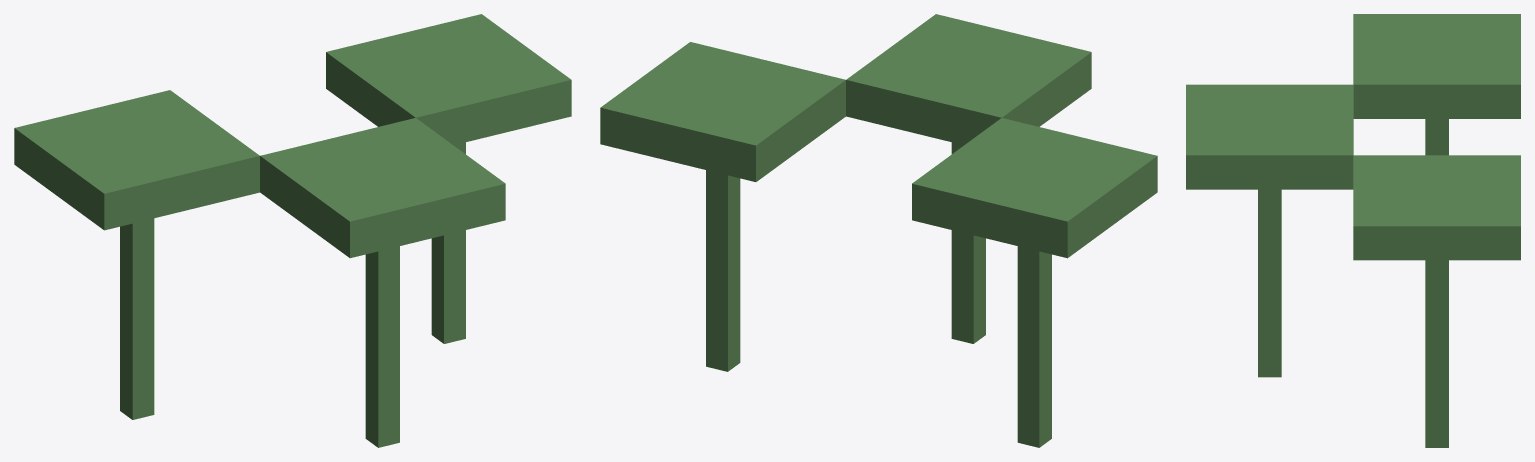
The model's file is date-palm-grove.source.glb.
The picture shows the model from 3 angles, left to right: view 1: azimuth 30°, elevation 25°; view 2: azimuth 150°, elevation 25°; view 3: azimuth 270°, elevation 25°; orthographic projection. The views are drawn at different scales.
Parts seen in each view (by area): view 1: date-palm-grove-crown--2-mesh, date-palm-grove-crown-0-mesh, date-palm-grove-crown-2-mesh, date-palm-grove-trunk--2-mesh, date-palm-grove-trunk-0-mesh, date-palm-grove-trunk-2-mesh; view 2: date-palm-grove-crown-2-mesh, date-palm-grove-crown--2-mesh, date-palm-grove-crown-0-mesh, date-palm-grove-trunk--2-mesh, date-palm-grove-trunk-2-mesh, date-palm-grove-trunk-0-mesh; view 3: date-palm-grove-crown-0-mesh, date-palm-grove-crown-2-mesh, date-palm-grove-crown--2-mesh, date-palm-grove-trunk-0-mesh, date-palm-grove-trunk-2-mesh, date-palm-grove-trunk--2-mesh.
Boxes of the visible parts, left/top/right/bottom form: date-palm-grove-crown--2-mesh: left=14, top=90, right=259, bottom=230; date-palm-grove-crown-0-mesh: left=260, top=118, right=505, bottom=258; date-palm-grove-crown-2-mesh: left=326, top=14, right=571, bottom=145; date-palm-grove-trunk--2-mesh: left=120, top=218, right=154, bottom=419; date-palm-grove-trunk-0-mesh: left=365, top=246, right=399, bottom=447; date-palm-grove-trunk-2-mesh: left=431, top=142, right=465, bottom=343; date-palm-grove-crown-2-mesh: left=600, top=42, right=845, bottom=181; date-palm-grove-crown--2-mesh: left=912, top=118, right=1157, bottom=258; date-palm-grove-crown-0-mesh: left=846, top=14, right=1091, bottom=144; date-palm-grove-trunk--2-mesh: left=1017, top=246, right=1051, bottom=447; date-palm-grove-trunk-2-mesh: left=706, top=170, right=740, bottom=371; date-palm-grove-trunk-0-mesh: left=951, top=142, right=985, bottom=343; date-palm-grove-crown-0-mesh: left=1186, top=84, right=1353, bottom=189; date-palm-grove-crown-2-mesh: left=1353, top=155, right=1520, bottom=260; date-palm-grove-crown--2-mesh: left=1353, top=14, right=1520, bottom=118; date-palm-grove-trunk-0-mesh: left=1258, top=189, right=1281, bottom=377; date-palm-grove-trunk-2-mesh: left=1425, top=260, right=1448, bottom=447; date-palm-grove-trunk--2-mesh: left=1425, top=119, right=1448, bottom=155.
Size of the model in its own units: 6 by 3.32 by 4.
